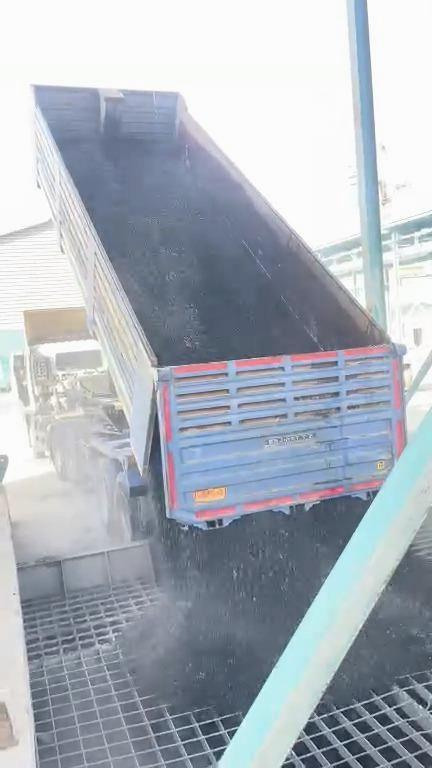gravel: (64, 136, 314, 365), (128, 490, 363, 708), (334, 584, 432, 700)
